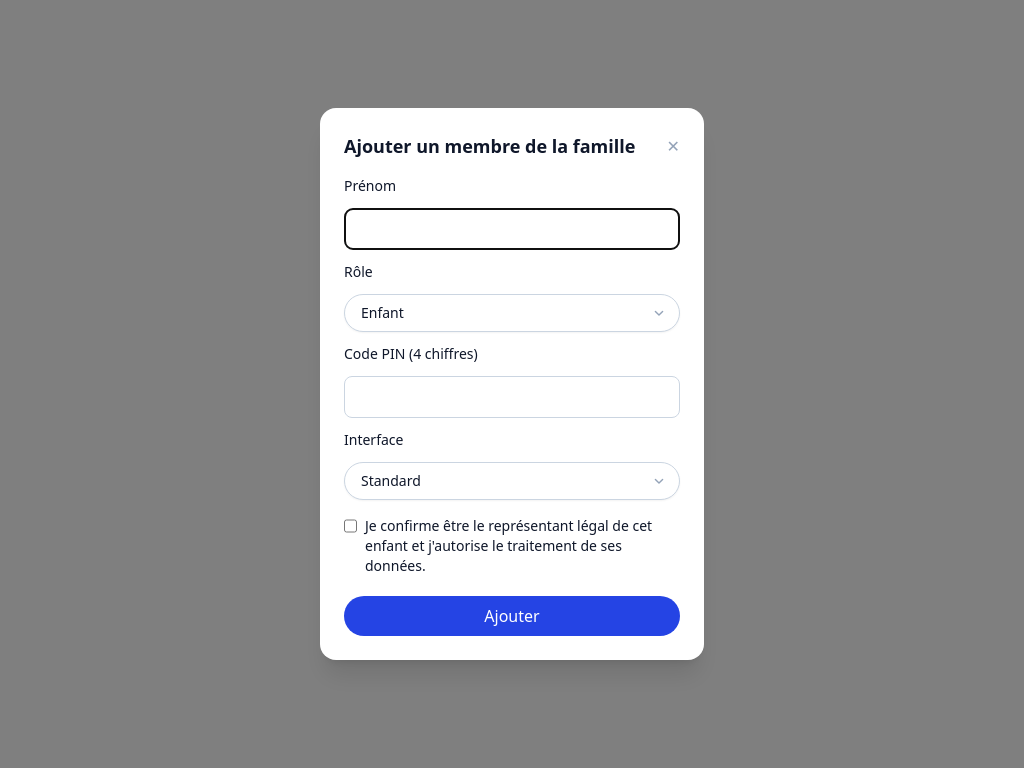
AddMemberModal › maps an unrecognized API error code to the generic message
This screenshot has width=1024, height=768.
Type "Nouveau" into the field labelled "Prénom" at (512, 229), box top-left (344, 208), bottom-right (680, 250)
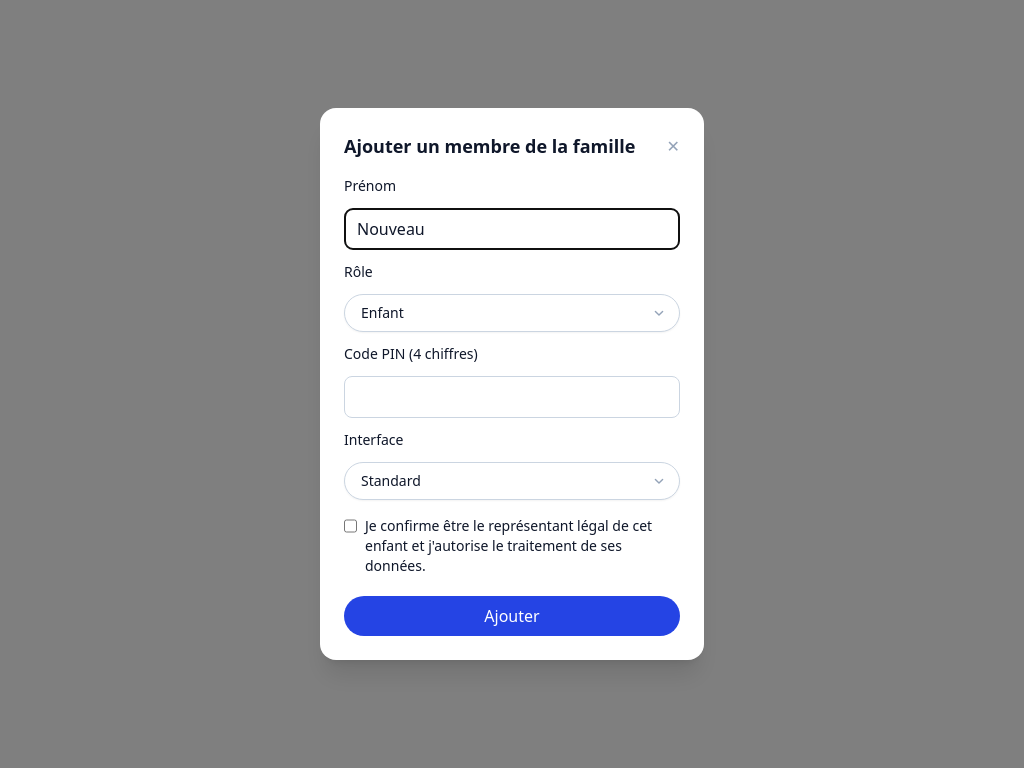
Type "1234" into the field labelled "Code PIN (4 chiffres)" at (512, 397), box top-left (344, 376), bottom-right (680, 418)
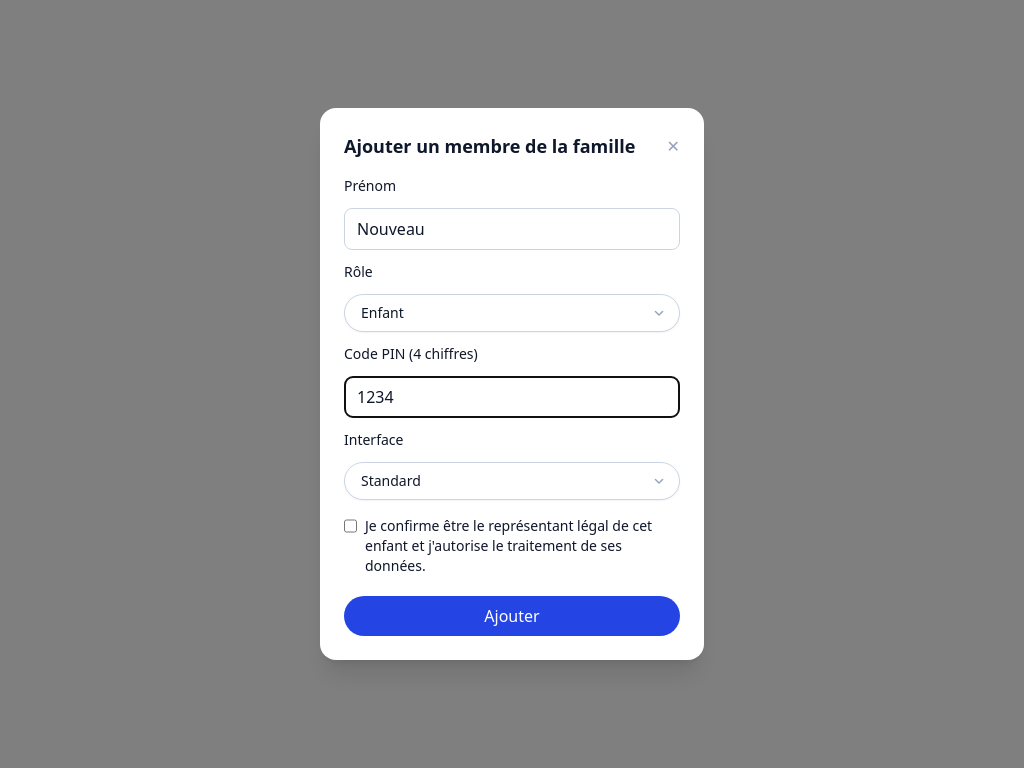
Click the checkbox labelled "représentant légal" at (350, 526), box top-left (344, 518), bottom-right (357, 534)
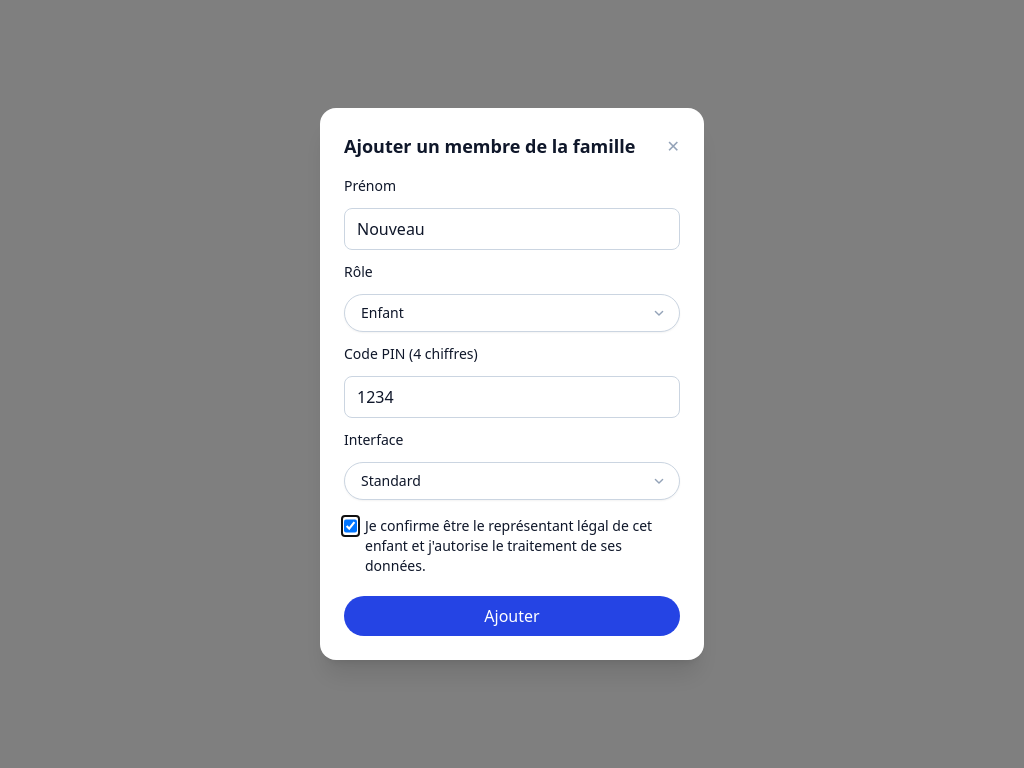
Click the button "Ajouter" at (512, 616), box top-left (344, 596), bottom-right (680, 636)
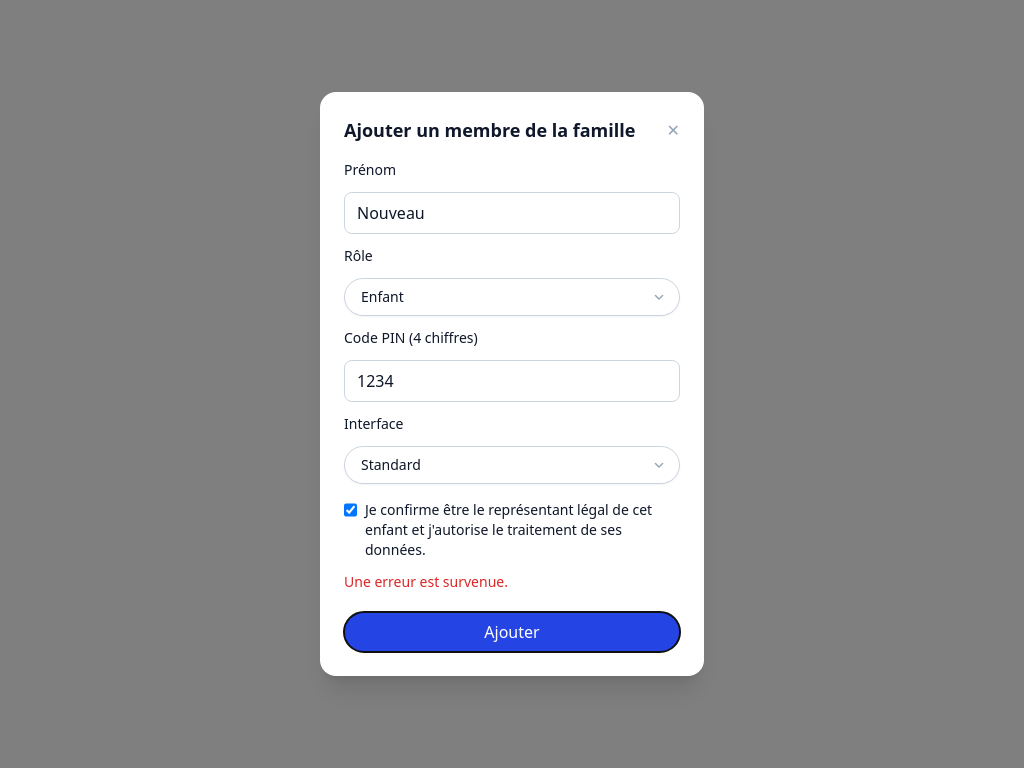
Now the text "Une erreur est survenue." is shown, box top-left (344, 572), bottom-right (508, 591)
